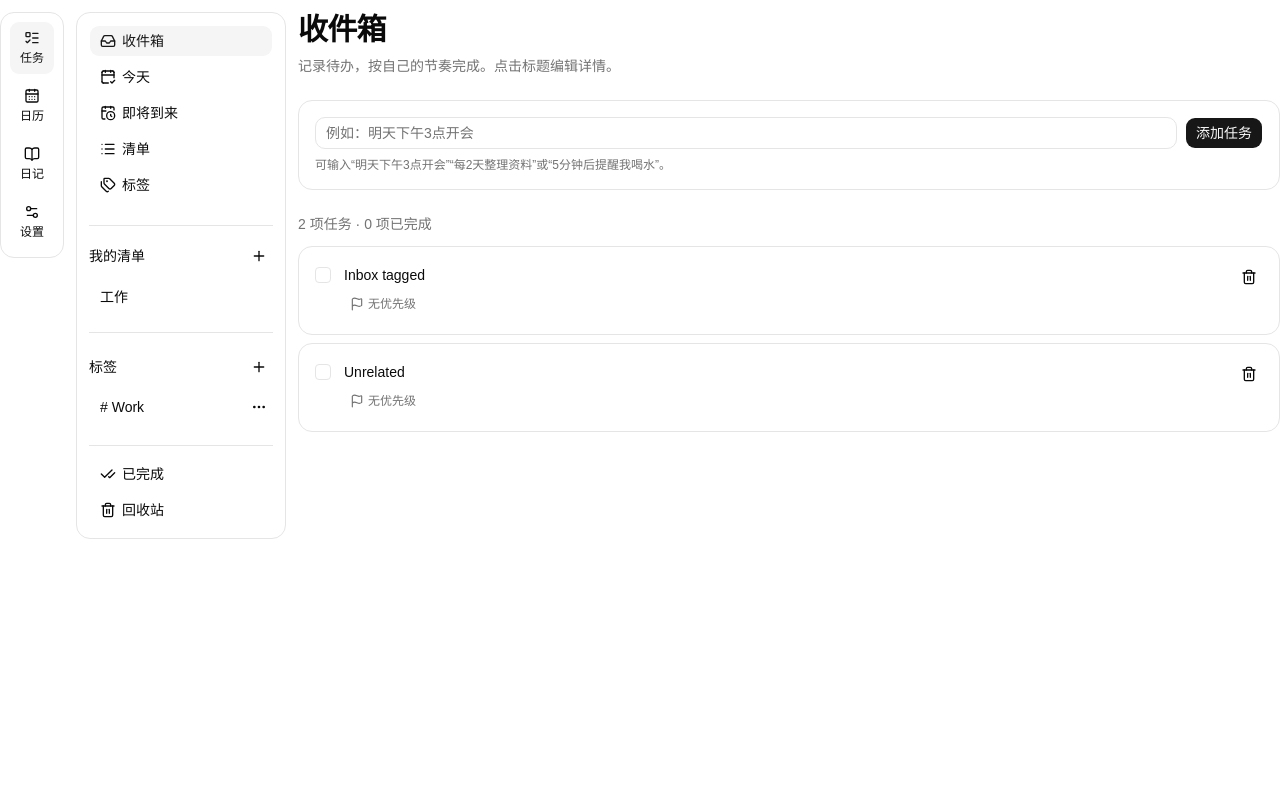
Test: renames tags through the management menu while retaining task links
expect the button "Inbox tagged" is shown: met, box top-left (343, 264), bottom-right (1223, 286)
Click the button named "管理标签：Work" at (259,407), box top-left (245, 393), bottom-right (273, 421)
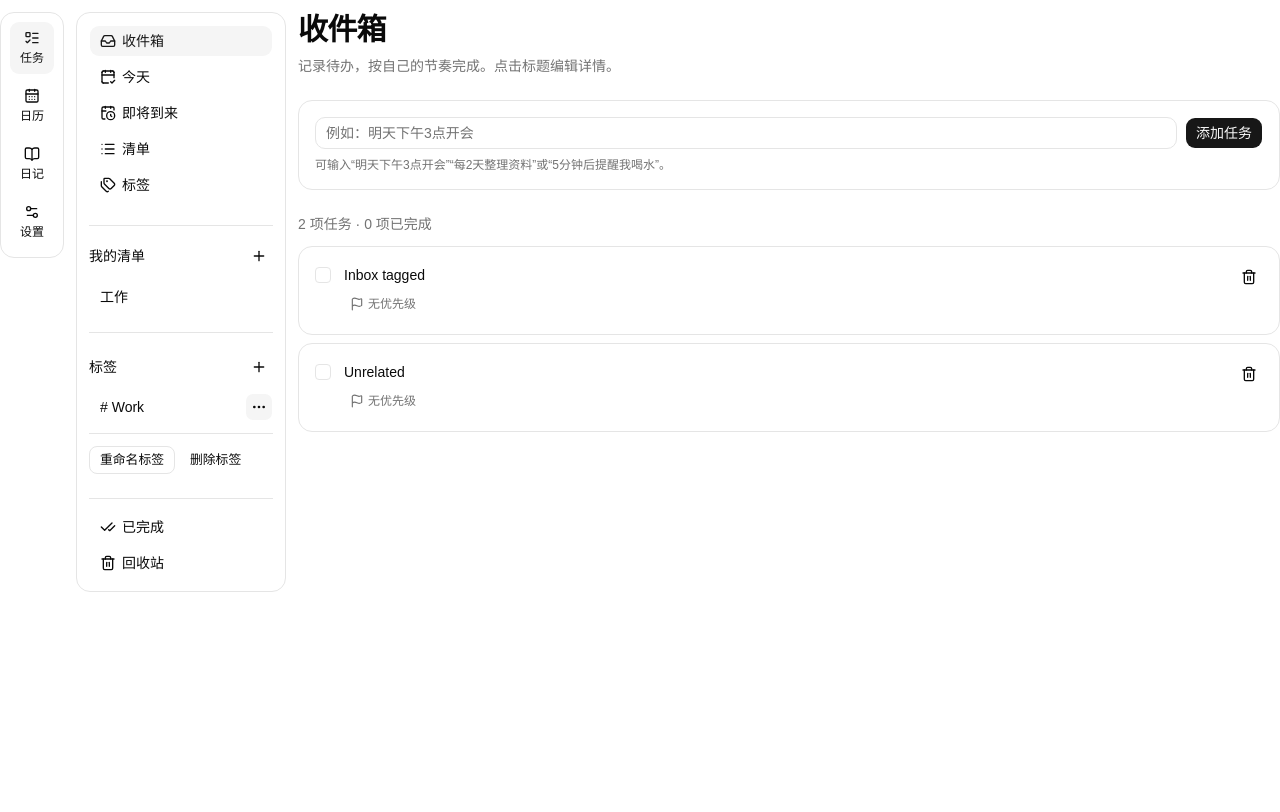
Click the button "重命名标签" at (132,460), box top-left (89, 446), bottom-right (175, 474)
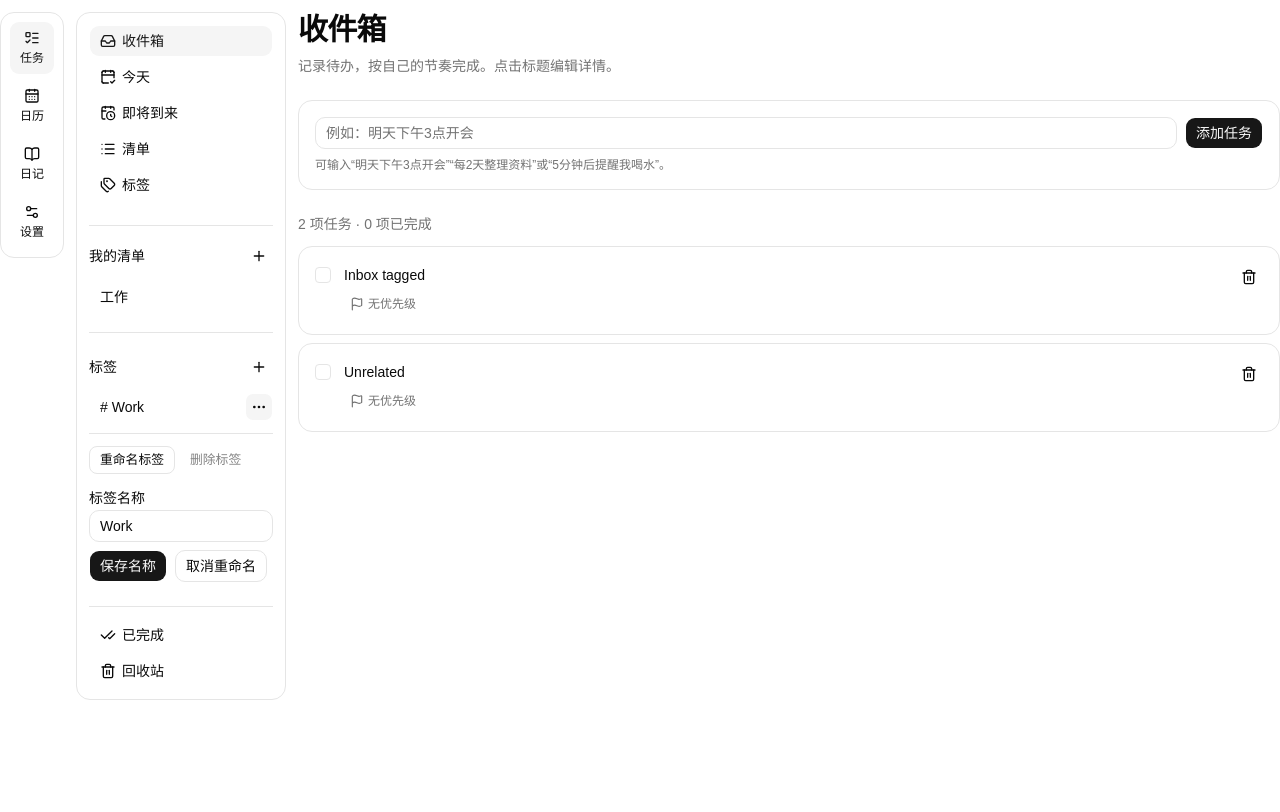
Replace the text in the field labelled "标签名称" with "家庭" at (181,526), box top-left (89, 510), bottom-right (273, 542)
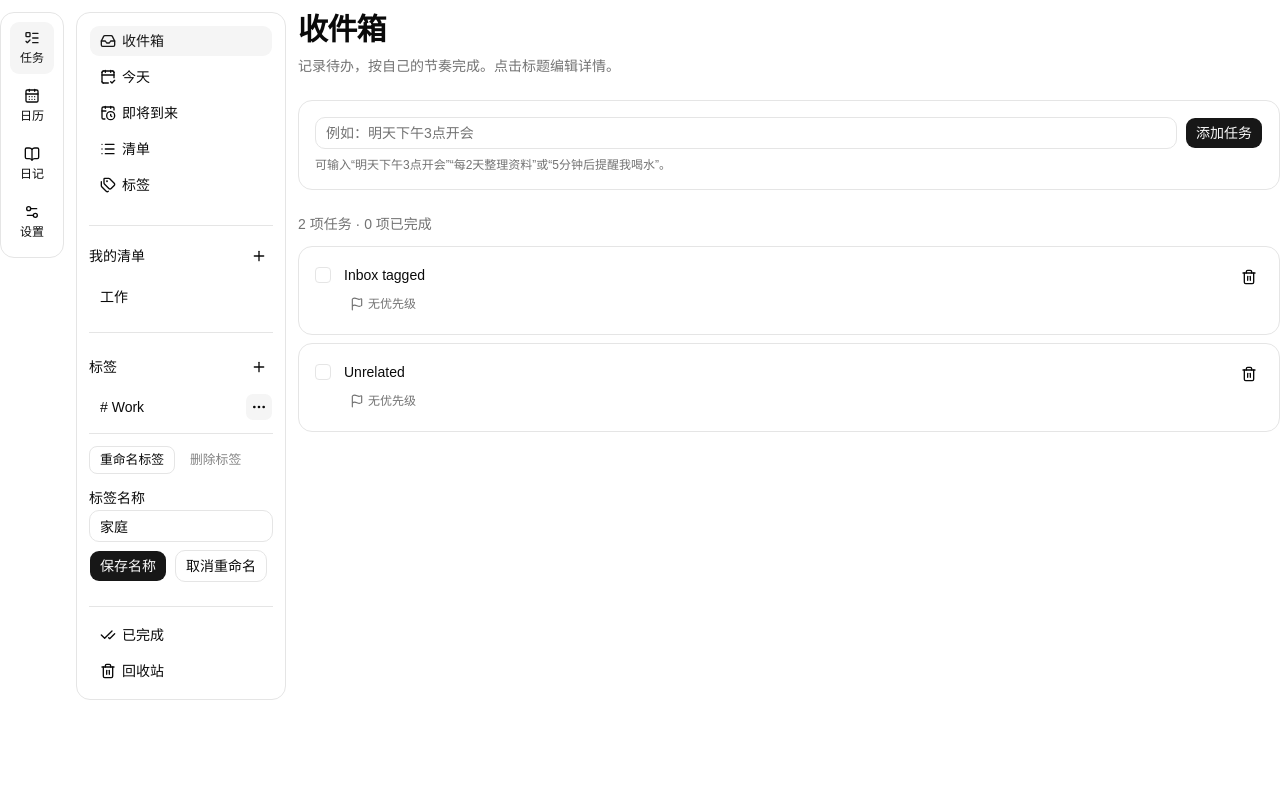
Submit the form named "重命名标签", box top-left (89, 486), bottom-right (273, 582)
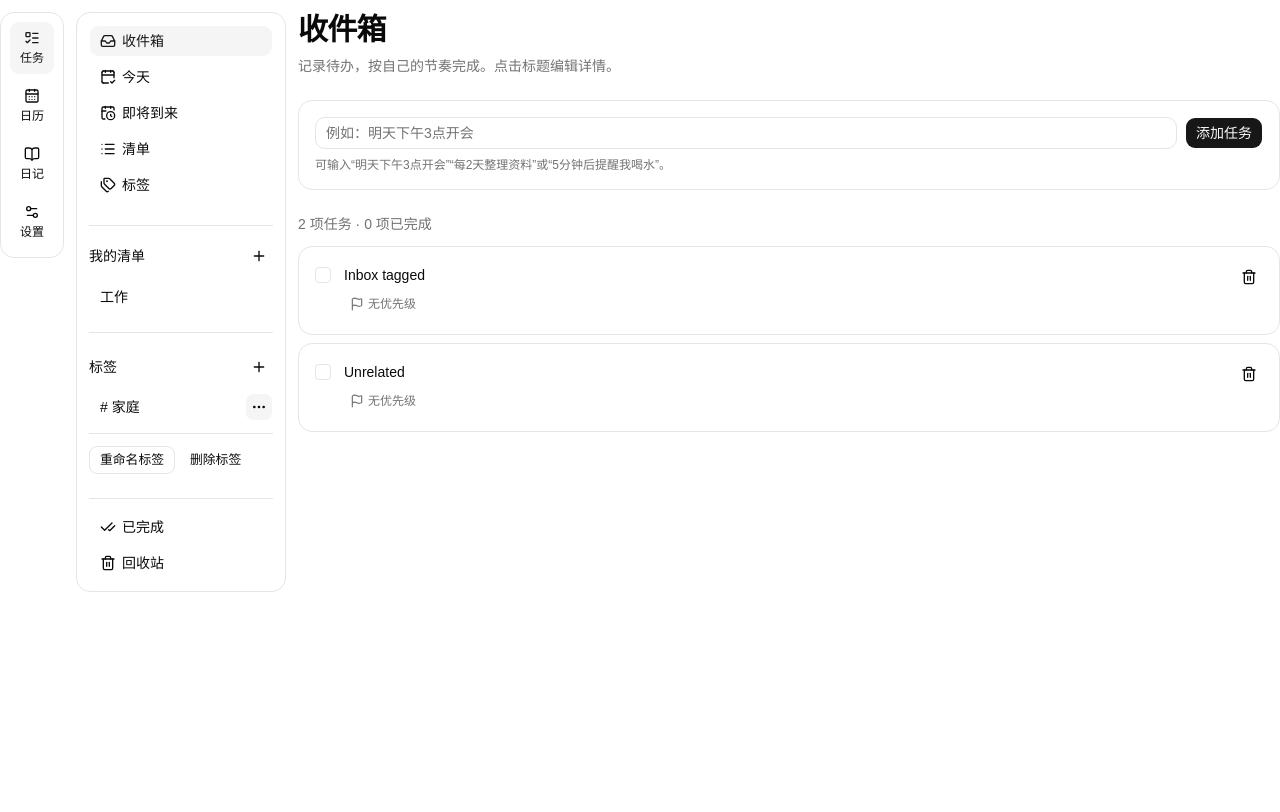
expect the button with aria-label "打开标签：家庭" is shown: met, box top-left (89, 396), bottom-right (241, 418)
